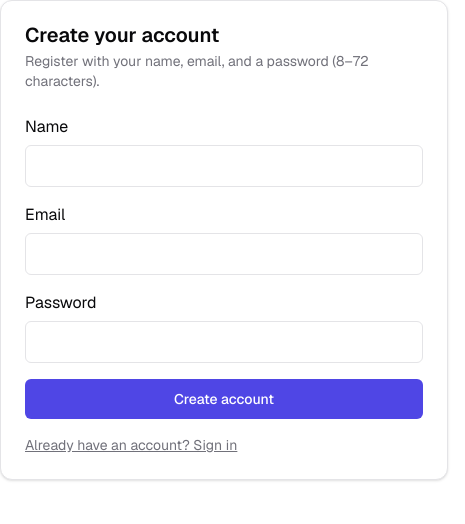
Test: shows the duplicate-email error on the email field
Type "John Doe" into the field labelled "Name" at (224, 166), box [25,145,423,187]
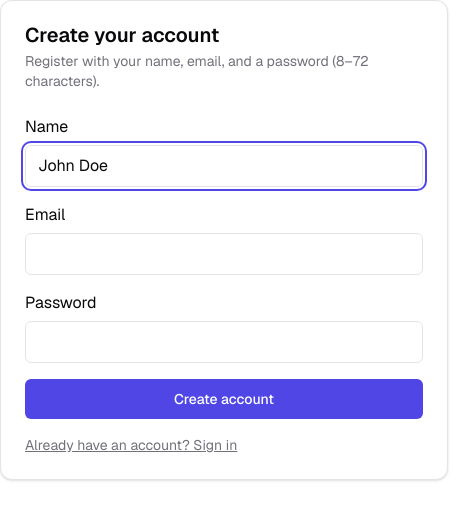
Type "john@test.local" into the field labelled "Email" at (224, 254), box [25,233,423,275]
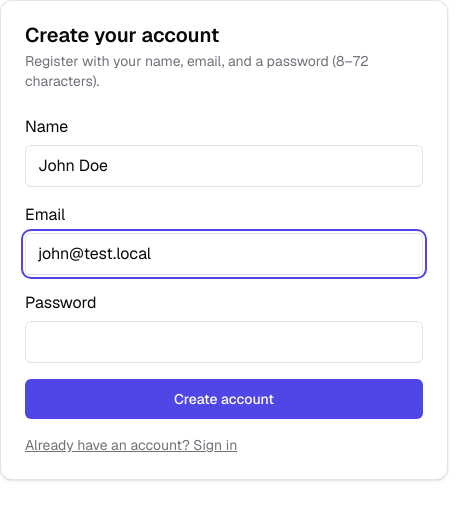
Type "supersafe99" into the password field labelled "Password" at (224, 342), box [25,321,423,363]
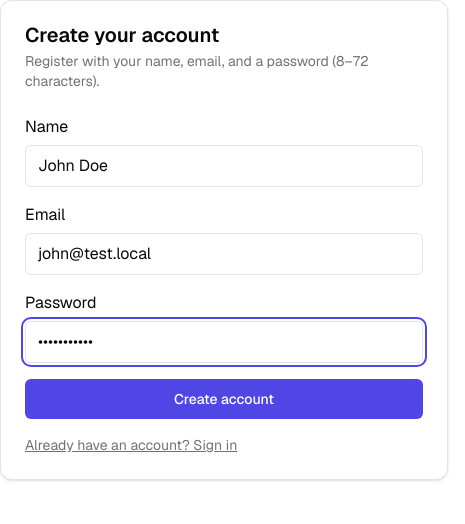
Click the button "Create account" at (224, 399), box [25,379,423,419]
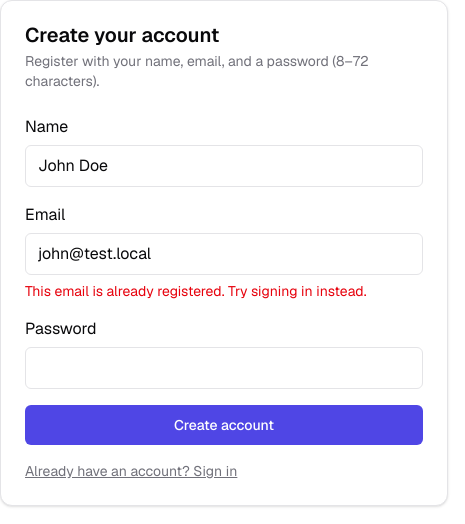
Result: the text "This email is already registered. Try signing in instead." is shown at [25,281,423,301]
